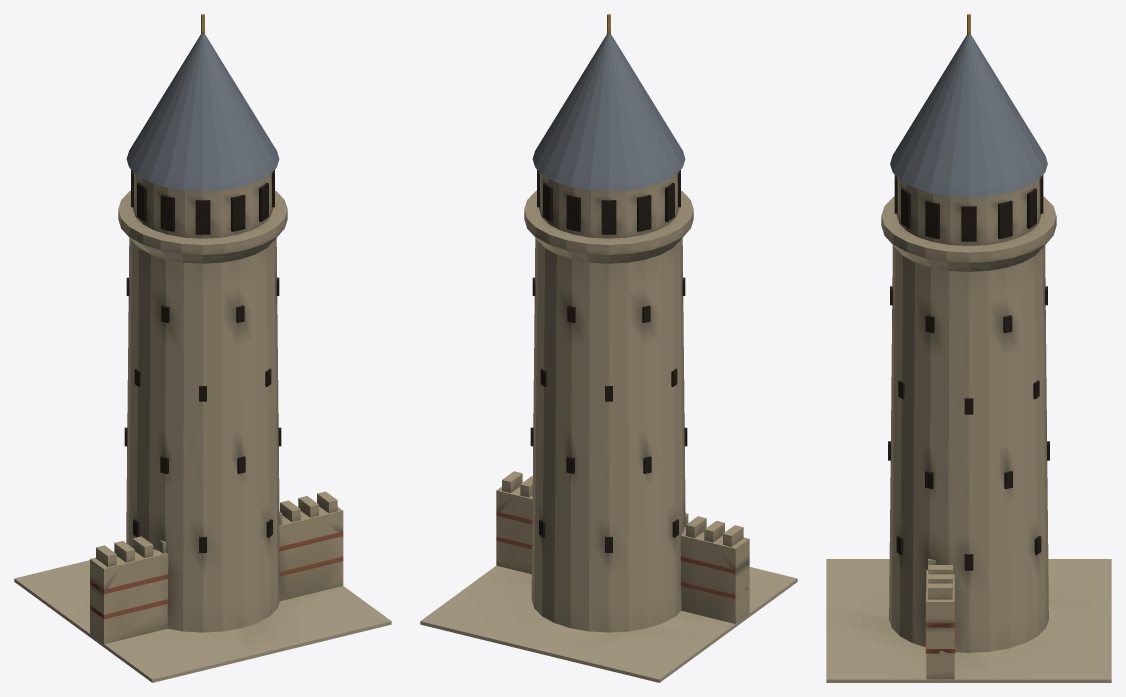
File: galata-tower.glb
The picture shows the model from 3 angles, left to right: view 1: azimuth 30°, elevation 25°; view 2: azimuth 150°, elevation 25°; view 3: azimuth 270°, elevation 25°; orthographic projection. The views are drawn at different scales.
Parts seen in each view (by area): view 1: p1_shaft, p0_tower, p2_top; view 2: p1_shaft, p2_top, p0_tower; view 3: p1_shaft, p2_top, p0_tower.
Part boxes in pixels (x1,y1,x2,y2): p1_shaft: (124, 238, 281, 632); p0_tower: (14, 491, 391, 682); p2_top: (118, 14, 287, 263); p1_shaft: (530, 238, 687, 632); p2_top: (524, 14, 693, 263); p0_tower: (420, 471, 797, 682); p1_shaft: (888, 245, 1049, 652); p2_top: (881, 14, 1056, 271); p0_tower: (826, 559, 1111, 682).
Size of the model in its own units: 30.02 by 70.5 by 30.
